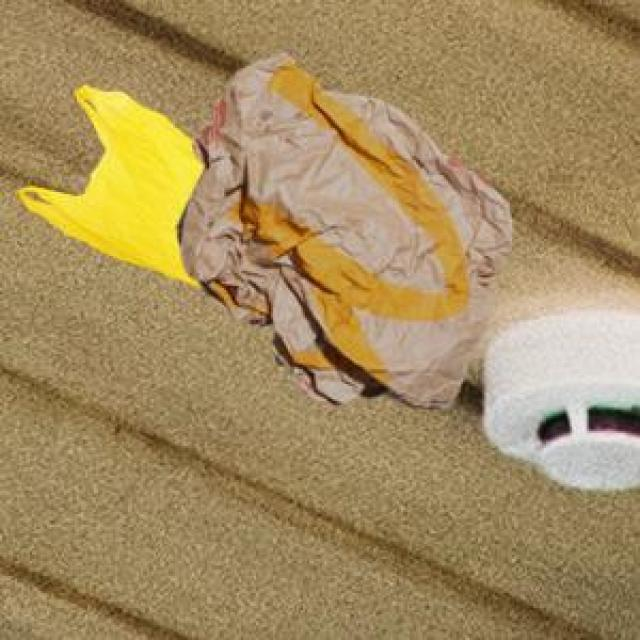paper: (173, 49, 508, 405)
